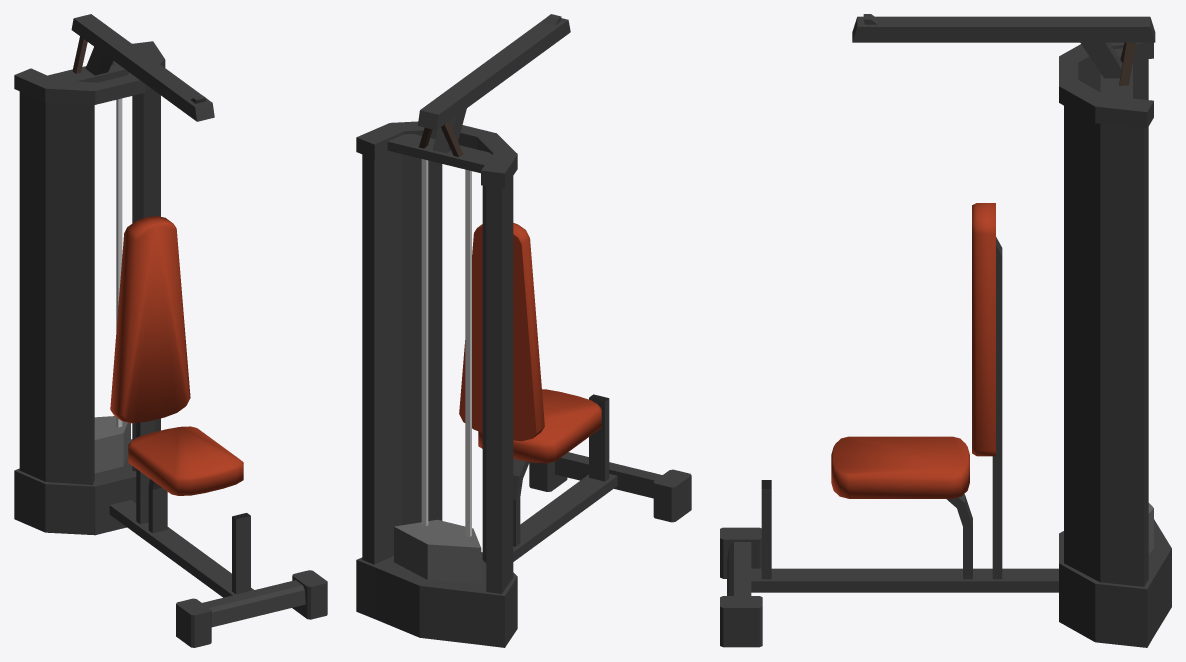
Rendered from E_Machine_4.fbx.
The picture shows the model from 3 angles, left to right: view 1: azimuth 30°, elevation 25°; view 2: azimuth 150°, elevation 25°; view 3: azimuth 270°, elevation 25°; orthographic projection. The views are drawn at different scales.
Parts seen in each view (by area): view 1: E_Machine_4; view 2: E_Machine_4; view 3: E_Machine_4.
Boxes of the visible parts, <box> form: E_Machine_4: <box>14,14,327,647</box>; E_Machine_4: <box>356,14,691,647</box>; E_Machine_4: <box>720,14,1171,647</box>.
Size of the model in its own units: 63.32 by 213 by 148.
